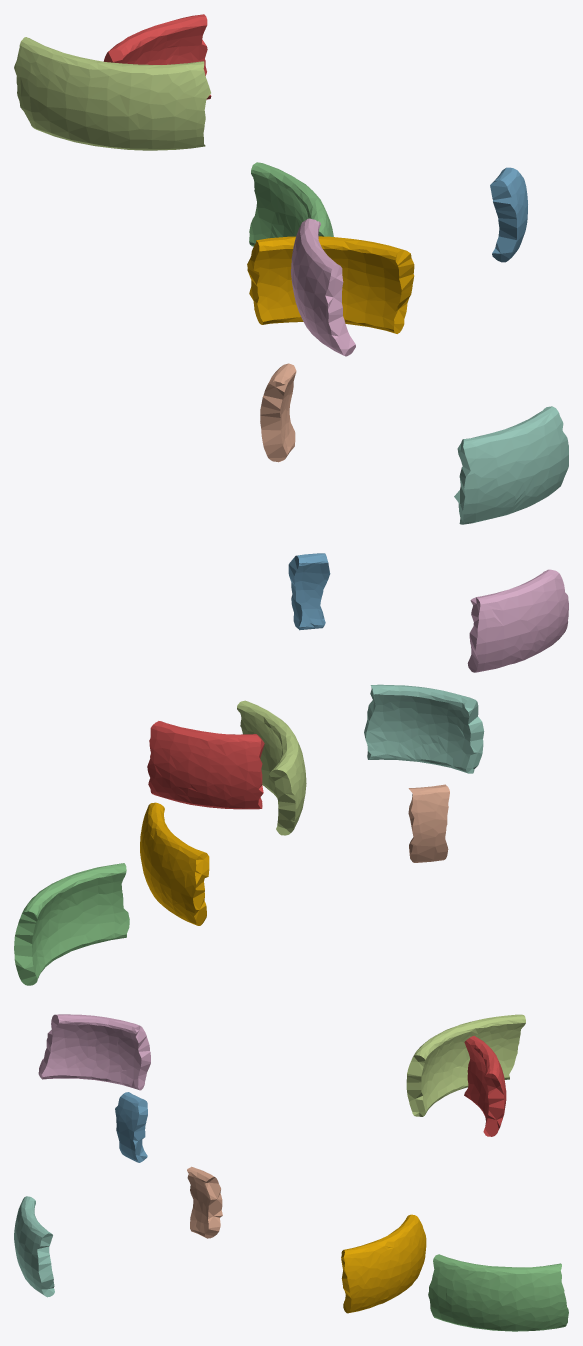
Rendered from fractured_62_8pcs_transformed.glb.
3 renders of one model, top to bottom at view 1: azimuth 30°, elevation 25°; view 2: azimuth 150°, elevation 25°; view 3: azimuth 270°, elevation 25°, orthographic. The views are drawn at different scales.
Visible parts, largest first — view 1: piece_5.obj, piece_0.obj, piece_4.obj, piece_6.obj, piece_3.obj, piece_1.obj, piece_7.obj, piece_2.obj; view 2: piece_4.obj, piece_1.obj, piece_3.obj, piece_6.obj, piece_0.obj, piece_5.obj, piece_7.obj, piece_2.obj; view 3: piece_3.obj, piece_6.obj, piece_5.obj, piece_0.obj, piece_1.obj, piece_4.obj, piece_7.obj, piece_2.obj.
Part boxes in pixels (left/top/right/bottom): piece_5.obj: left=14, top=37, right=210, bottom=150; piece_0.obj: left=247, top=236, right=414, bottom=333; piece_4.obj: left=454, top=406, right=568, bottom=524; piece_6.obj: left=291, top=218, right=355, bottom=356; piece_3.obj: left=249, top=162, right=333, bottom=246; piece_1.obj: left=103, top=14, right=211, bottom=99; piece_7.obj: left=260, top=363, right=296, bottom=462; piece_2.obj: left=490, top=167, right=527, bottom=262; piece_4.obj: left=364, top=684, right=484, bottom=773; piece_1.obj: left=147, top=721, right=264, bottom=809; piece_3.obj: left=14, top=863, right=129, bottom=985; piece_6.obj: left=467, top=569, right=568, bottom=672; piece_0.obj: left=140, top=802, right=209, bottom=925; piece_5.obj: left=237, top=700, right=306, bottom=835; piece_7.obj: left=408, top=784, right=449, bottom=862; piece_2.obj: left=288, top=553, right=330, bottom=630; piece_3.obj: left=428, top=1254, right=568, bottom=1331; piece_6.obj: left=38, top=1014, right=150, bottom=1090; piece_5.obj: left=406, top=1014, right=525, bottom=1116; piece_0.obj: left=341, top=1214, right=426, bottom=1313; piece_1.obj: left=464, top=1035, right=506, bottom=1136; piece_4.obj: left=14, top=1196, right=54, bottom=1297; piece_7.obj: left=187, top=1166, right=222, bottom=1238; piece_2.obj: left=115, top=1092, right=147, bottom=1162.
Bounding box in the file's own units: 1 × 0.9244 × 2.14.
